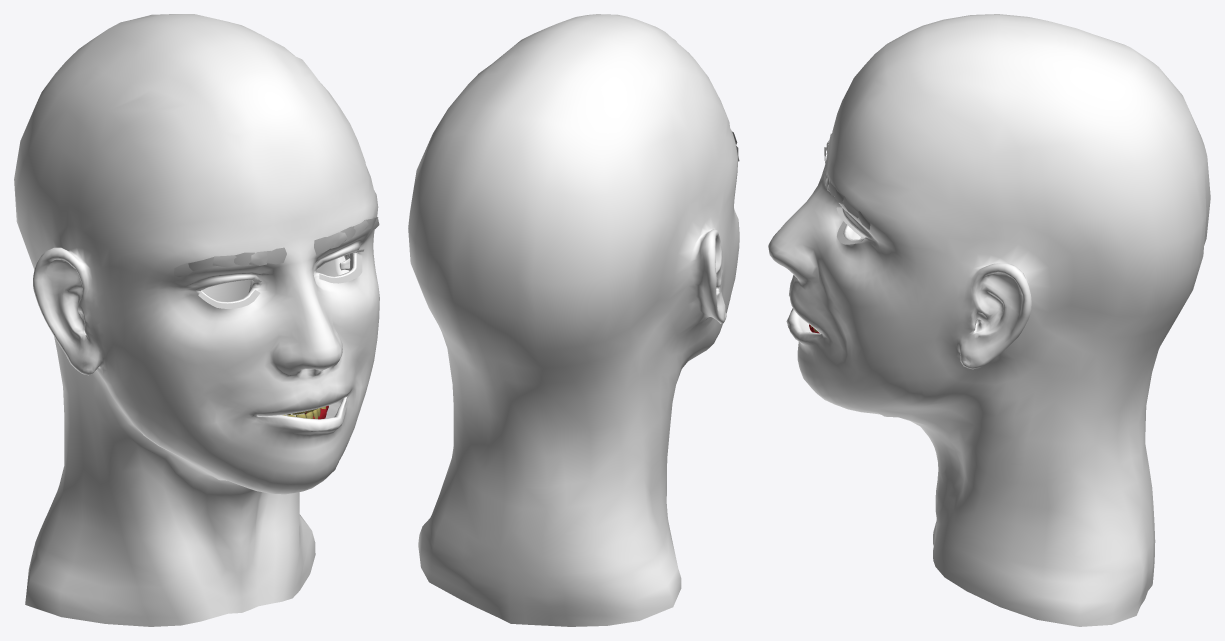
Rendered from mouthLowerDownLeft.obj.
The picture shows the model from 3 angles, left to right: view 1: azimuth 30°, elevation 25°; view 2: azimuth 150°, elevation 25°; view 3: azimuth 270°, elevation 25°; orthographic projection. The views are drawn at different scales.
Visible parts, largest first — view 1: FaceMesh_Plane.003; view 2: FaceMesh_Plane.003; view 3: FaceMesh_Plane.003.
Part boxes in pixels (bbox=[...]): FaceMesh_Plane.003: bbox=[14, 14, 379, 626]; FaceMesh_Plane.003: bbox=[408, 14, 739, 626]; FaceMesh_Plane.003: bbox=[768, 14, 1210, 626].
Size of the model in its own units: 1.54 by 2.71 by 1.94.
5 materials, 1 textured.
